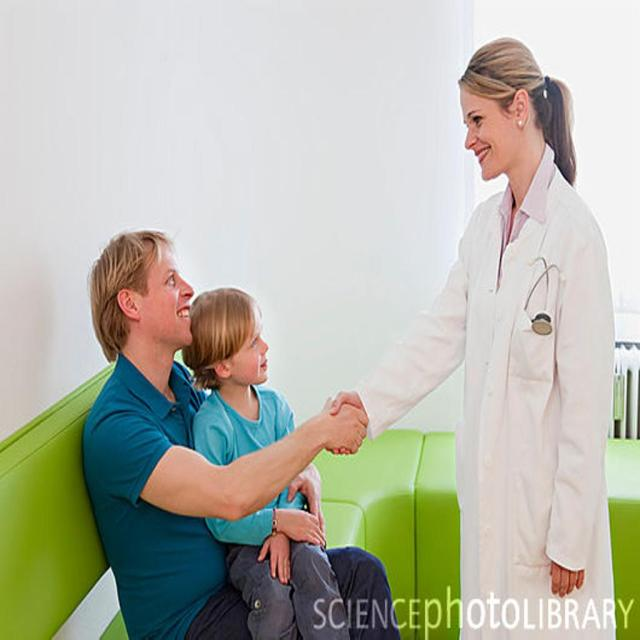Face: (140, 240, 203, 366), (447, 85, 510, 189), (239, 301, 278, 398)
